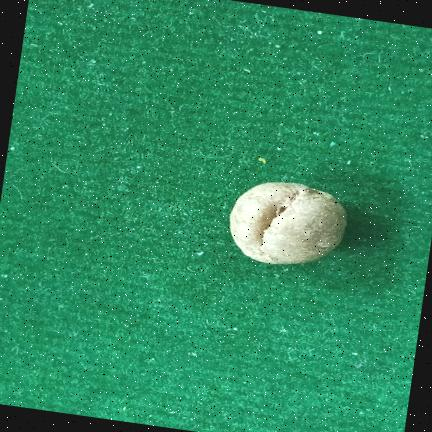good: (230, 182, 346, 264)
